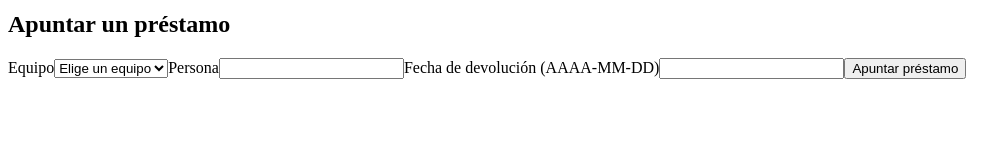
it: pantalla Apuntar un préstamo › avisa si no se ha elegido equipo y no llama a la API
This screenshot has width=983, height=160.
Click the button "Apuntar préstamo": (905, 68) [844,58,966,79]
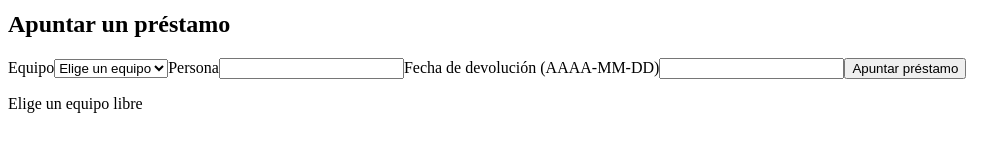
Now the message reads "Elige un equipo libre", box [8,95,143,112]
